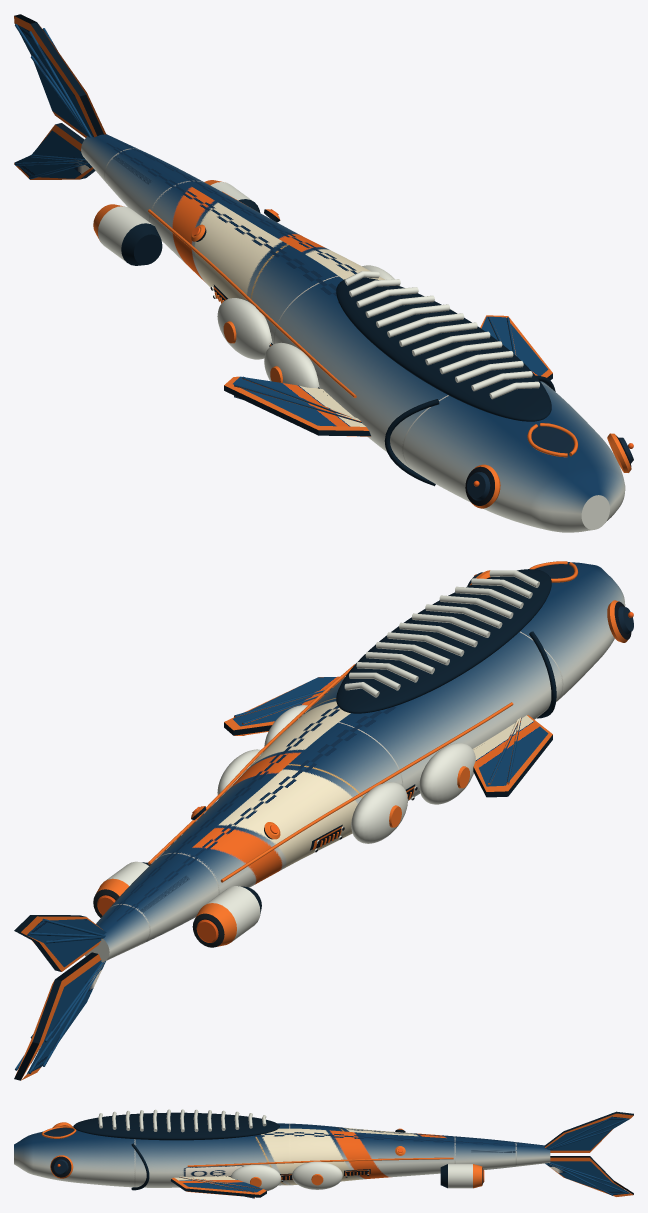
3 views of the same model, one above another, from view 1: azimuth 30°, elevation 25°; view 2: azimuth 150°, elevation 25°; view 3: azimuth 270°, elevation 25° (orthographic). The views are drawn at different scales.
Visible parts, largest first — view 1: remora_hull; view 2: remora_hull; view 3: remora_hull.
Boxes of the visible parts, x1,y1,x2,y2 form: remora_hull: (14,14,633,532); remora_hull: (14,561,633,1080); remora_hull: (14,1109,633,1198).
Bounding box in the file's own units: 18.16 × 9.53 × 64.
Materials: 1 (1 with a texture image).
